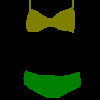mutande: (23, 69, 81, 98)
reggiseno: (26, 0, 75, 33)
